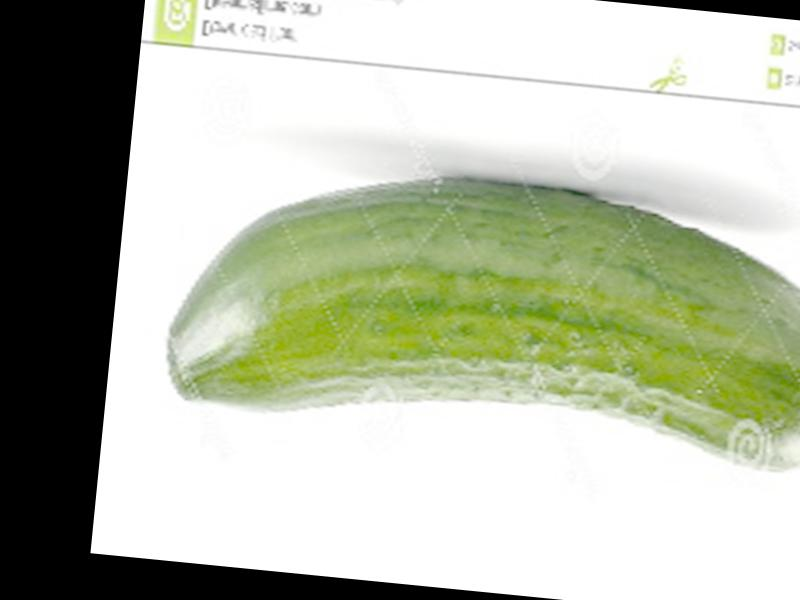Cucumber: (165, 150, 800, 470)
